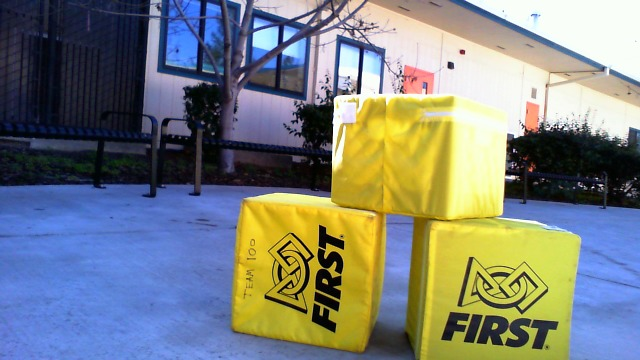cube: (405, 218, 584, 360), (229, 192, 389, 347), (321, 91, 510, 221)
